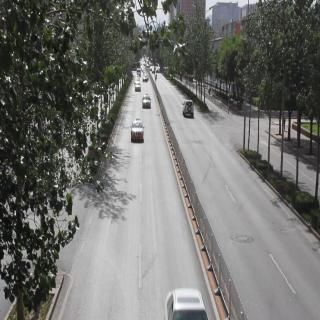Car: (159, 281, 214, 320), (130, 115, 145, 142), (140, 94, 156, 113), (181, 100, 195, 119), (136, 80, 142, 95), (142, 73, 148, 81)
